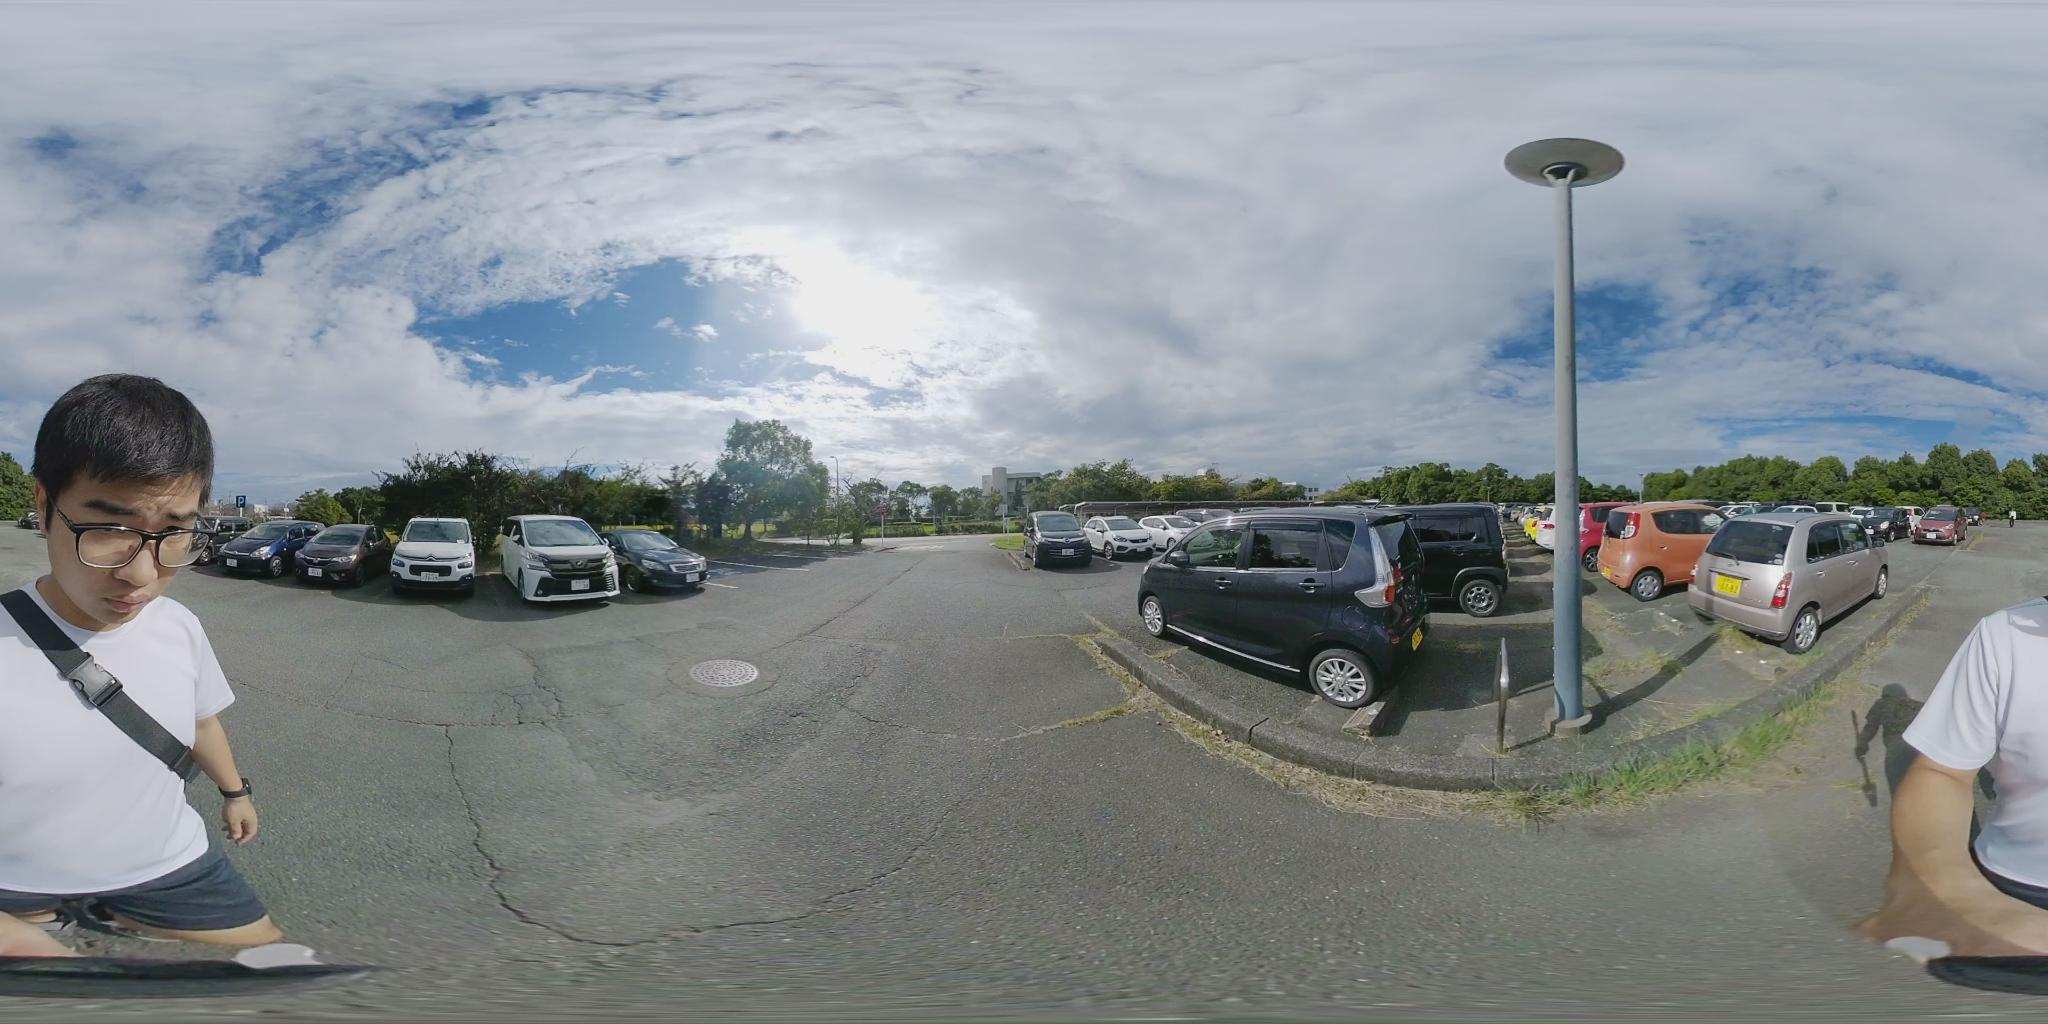car: (1134, 515, 1420, 707), (1686, 511, 1900, 649), (503, 519, 623, 603), (601, 529, 711, 593), (388, 517, 478, 593), (216, 521, 330, 575), (294, 526, 381, 585), (1023, 513, 1097, 571), (1087, 521, 1169, 559), (1908, 509, 1962, 543)
